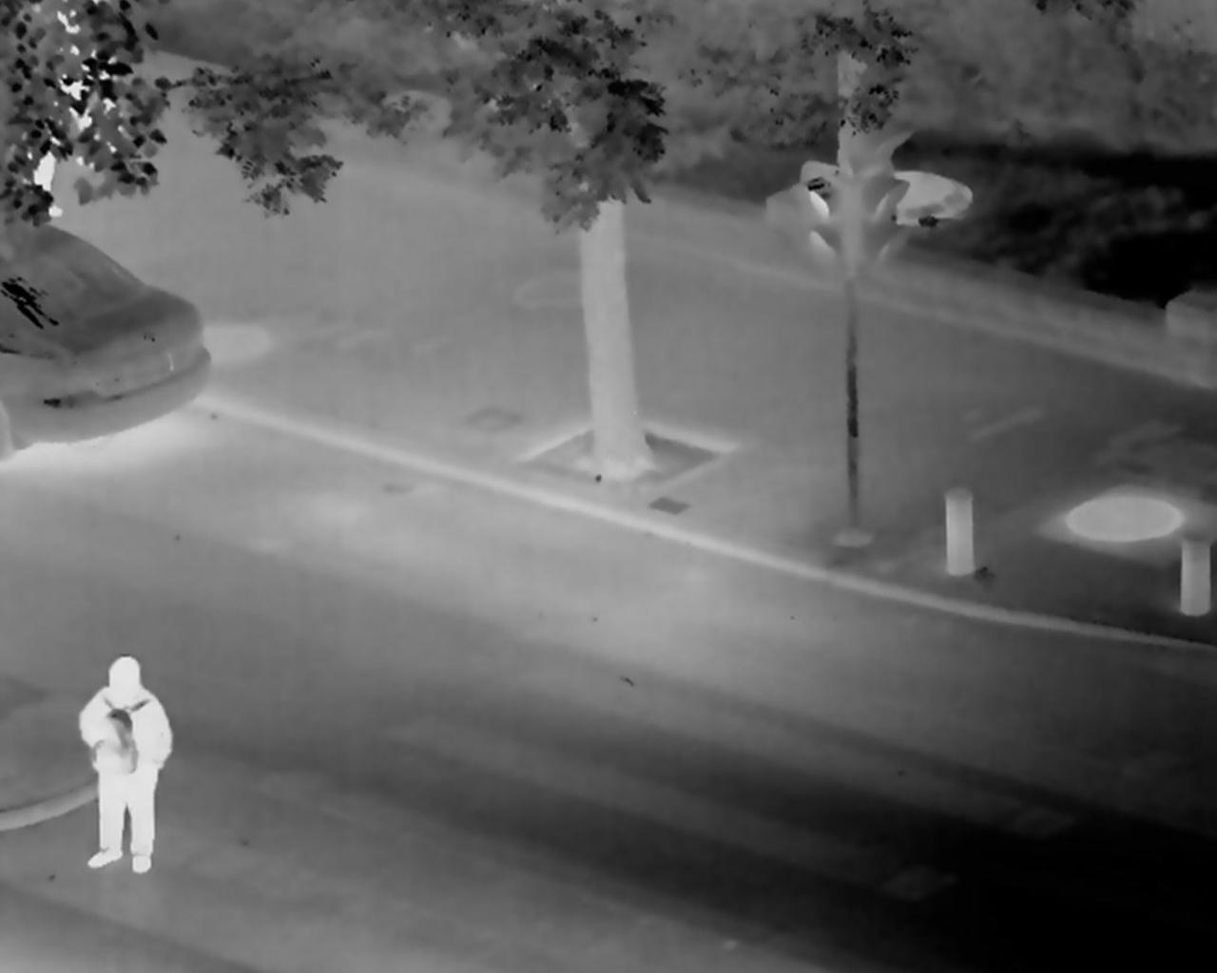person: (70, 654, 181, 886)
